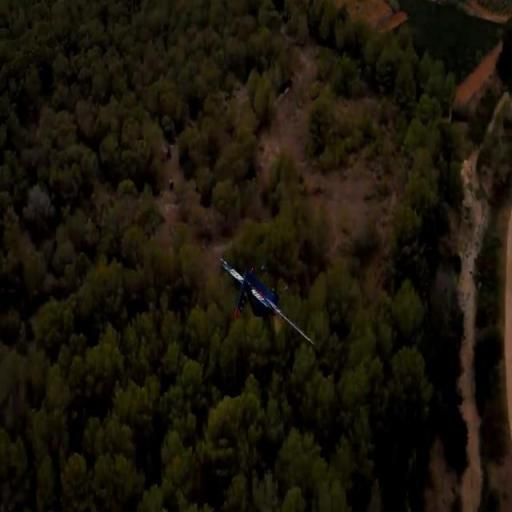uav: (220, 260, 314, 346)
